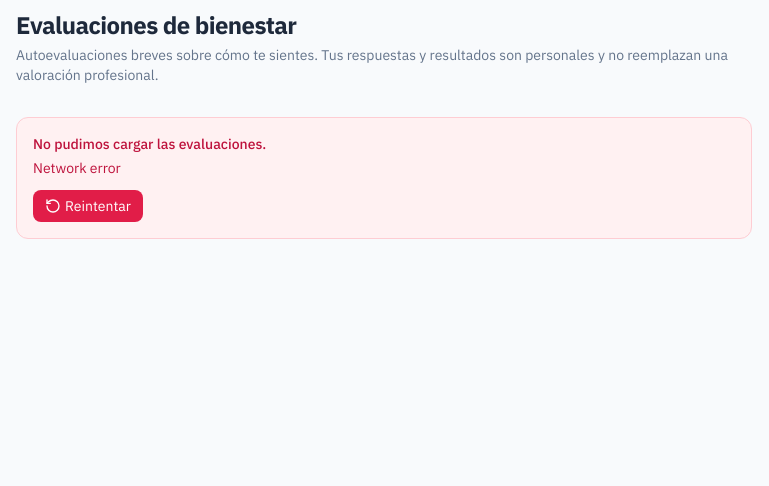
MhAssessmentsPage (lista /mh/assessments) › en error de red muestra el error real y permite reintentar (retry recupera)
The image size is (769, 486).
Check: the text "No pudimos cargar las evaluaciones." is shown, box [33,135,266,153]
Check: the text "Network error" is shown, box [33,159,121,177]
Click the button "Reintentar" at (88, 206), box [33,190,143,222]
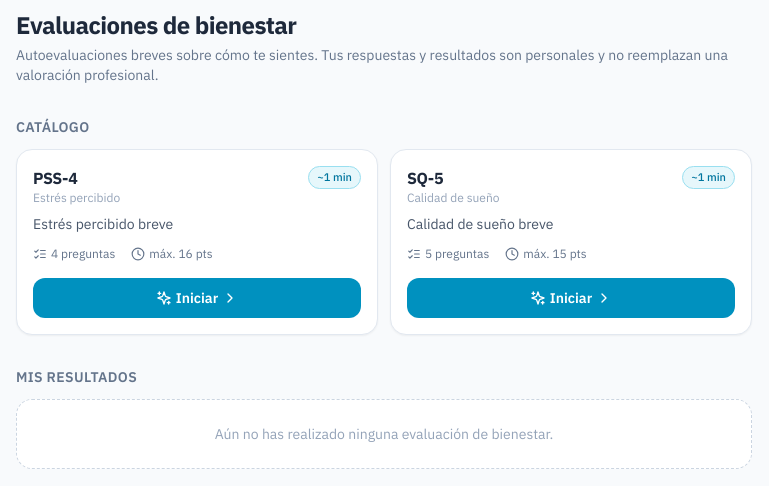
Check: the heading "PSS-4" is shown, box [33,168,77,188]
